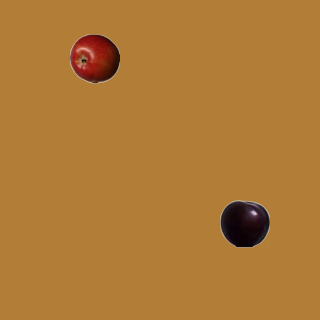Apple Braeburn: (69, 33, 119, 83)
Cherry Wax Black: (219, 198, 269, 248)
